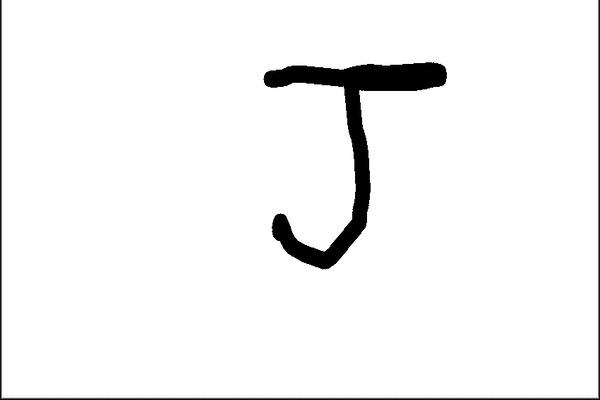J: (255, 57, 450, 267)
